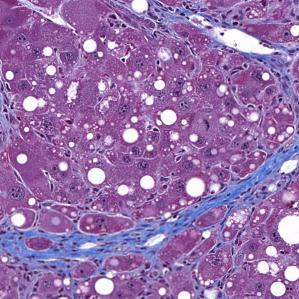fibrosis: (16, 221, 179, 269), (209, 164, 284, 227)
